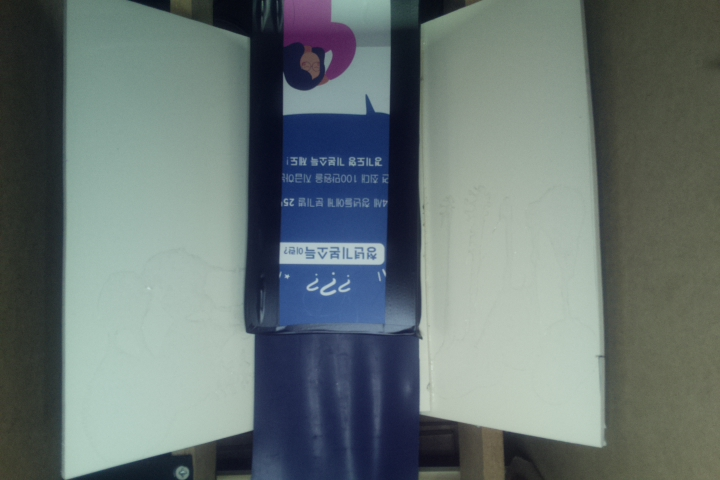book: (245, 1, 424, 337)
